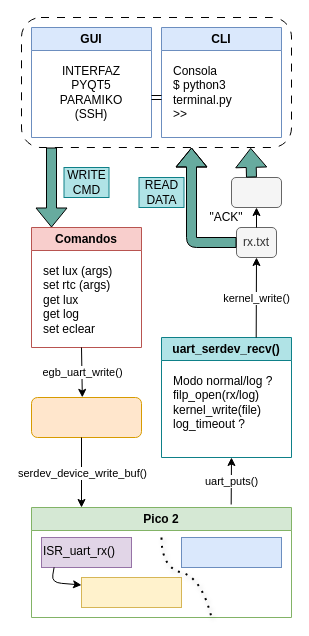
This 309x636 diagram has some shape labels left out. Here are the shapes that lost their labels. From the top down, the centre of each, then its label:
point 256,192: log.txt
point 86,417: /dev/egb_uart
point 231,552: task_UART_TX()
point 131,592: task_UART_RX()
